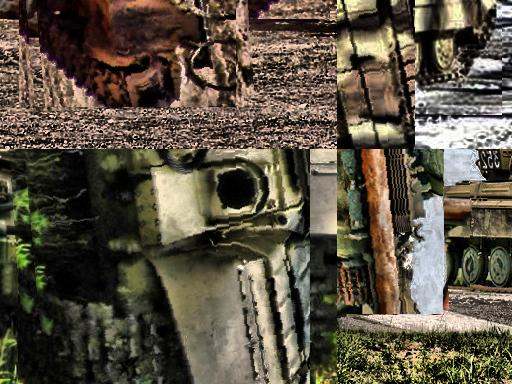tanks: (38, 150, 311, 384), (35, 1, 209, 108), (338, 150, 444, 314), (338, 1, 415, 150), (435, 150, 512, 288)
